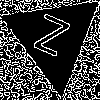Z: (29, 13, 71, 67)
